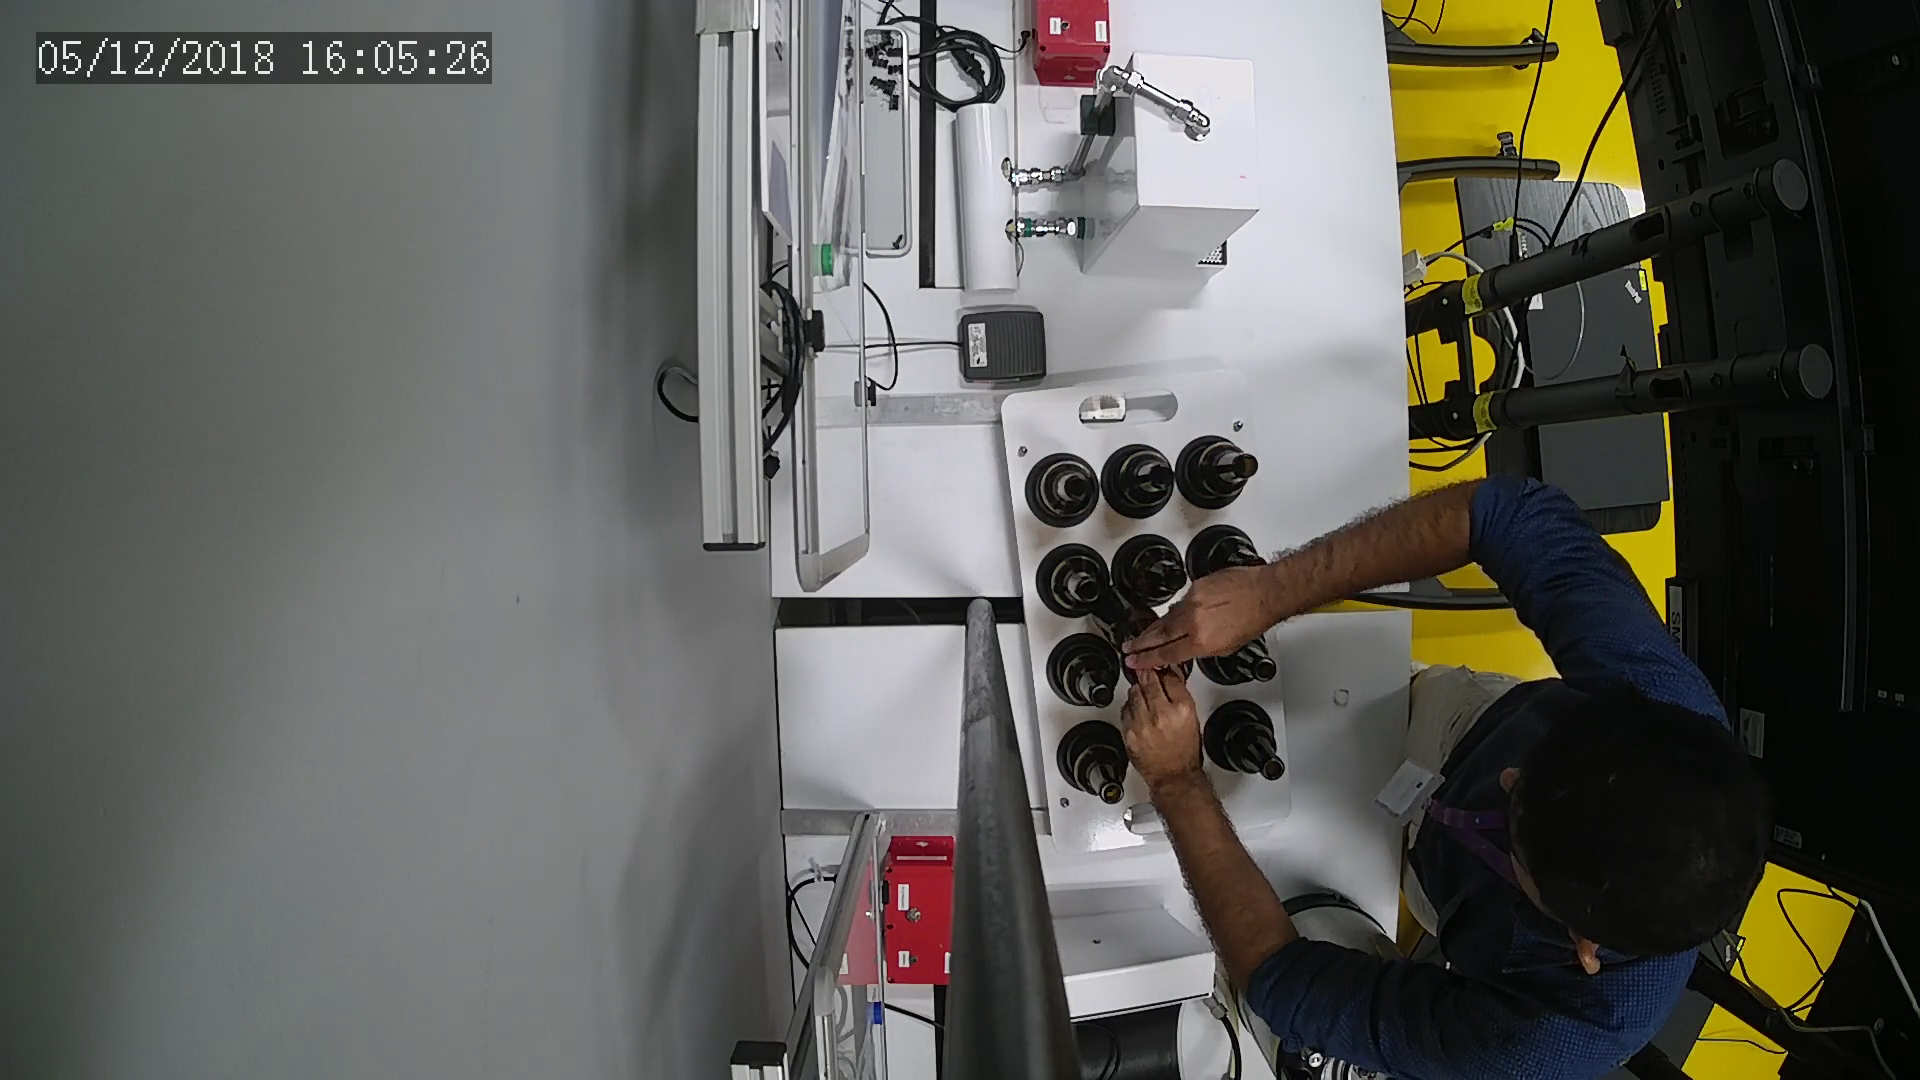filled_bottle: (1203, 699, 1299, 790), (1051, 717, 1135, 816), (1178, 433, 1265, 513), (1102, 440, 1182, 526), (1110, 534, 1193, 611), (1022, 451, 1102, 527), (1051, 636, 1124, 717), (1039, 543, 1112, 624), (1193, 638, 1291, 698), (1195, 530, 1270, 574)
trolley: (996, 367, 1305, 861)
